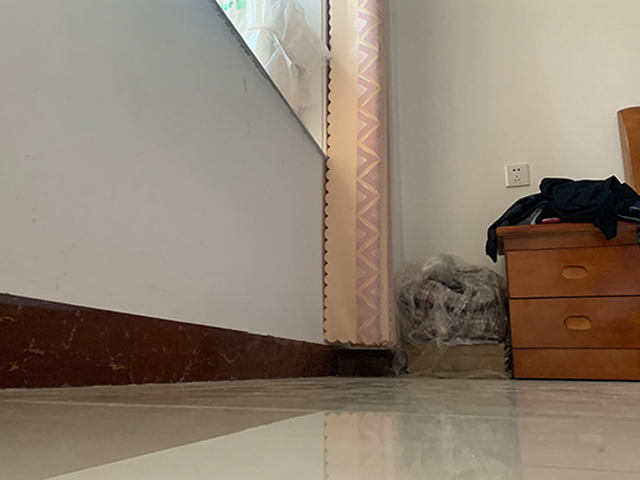cabinet: (497, 222, 640, 385)
curtain: (324, 1, 399, 352)
